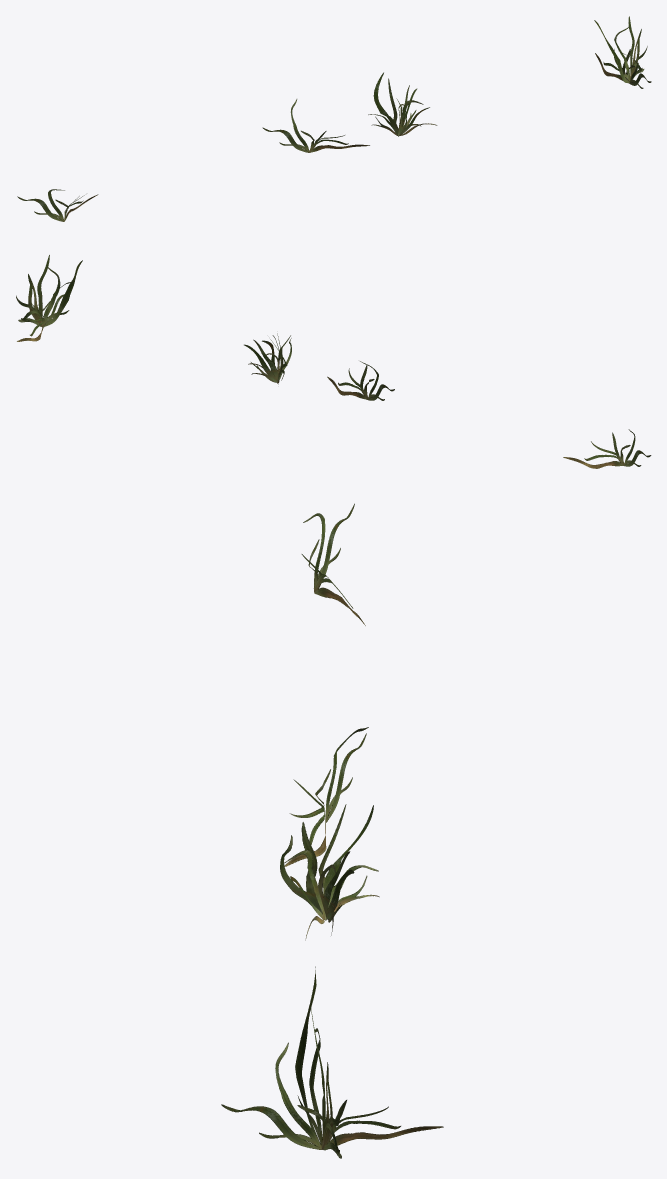
Rendered from grass_bermuda_01.glb.
The picture shows the model from 3 angles, top to bottom: view 1: azimuth 30°, elevation 25°; view 2: azimuth 150°, elevation 25°; view 3: azimuth 270°, elevation 25°; orthographic projection. The views are drawn at different scales.
Visible parts, largest first — view 1: grass_bermuda_01_medium_c, grass_bermuda_01_small_c, grass_bermuda_01_small_b, grass_bermuda_01_small_a; view 2: grass_bermuda_01_medium_c, grass_bermuda_01_small_c, grass_bermuda_01_small_a, grass_bermuda_01_small_b; view 3: grass_bermuda_01_medium_c, grass_bermuda_01_small_c, grass_bermuda_01_small_b, grass_bermuda_01_small_a.
Part boxes in pixels (left/top/right/bottom): grass_bermuda_01_medium_c: left=594, top=16, right=651, bottom=88; grass_bermuda_01_small_c: left=368, top=72, right=437, bottom=136; grass_bermuda_01_small_b: left=262, top=99, right=369, bottom=152; grass_bermuda_01_small_a: left=17, top=189, right=98, bottom=221; grass_bermuda_01_medium_c: left=16, top=255, right=82, bottom=341; grass_bermuda_01_small_c: left=244, top=333, right=291, bottom=384; grass_bermuda_01_small_a: left=563, top=429, right=651, bottom=468; grass_bermuda_01_small_b: left=327, top=361, right=394, bottom=400; grass_bermuda_01_medium_c: left=221, top=966, right=443, bottom=1158; grass_bermuda_01_small_c: left=280, top=804, right=379, bottom=940; grass_bermuda_01_small_b: left=284, top=727, right=368, bottom=866; grass_bermuda_01_small_a: left=301, top=503, right=365, bottom=625.
Size of the model in its own units: 0.5611 by 0.0667 by 0.0916.
1 material, 1 textured.
